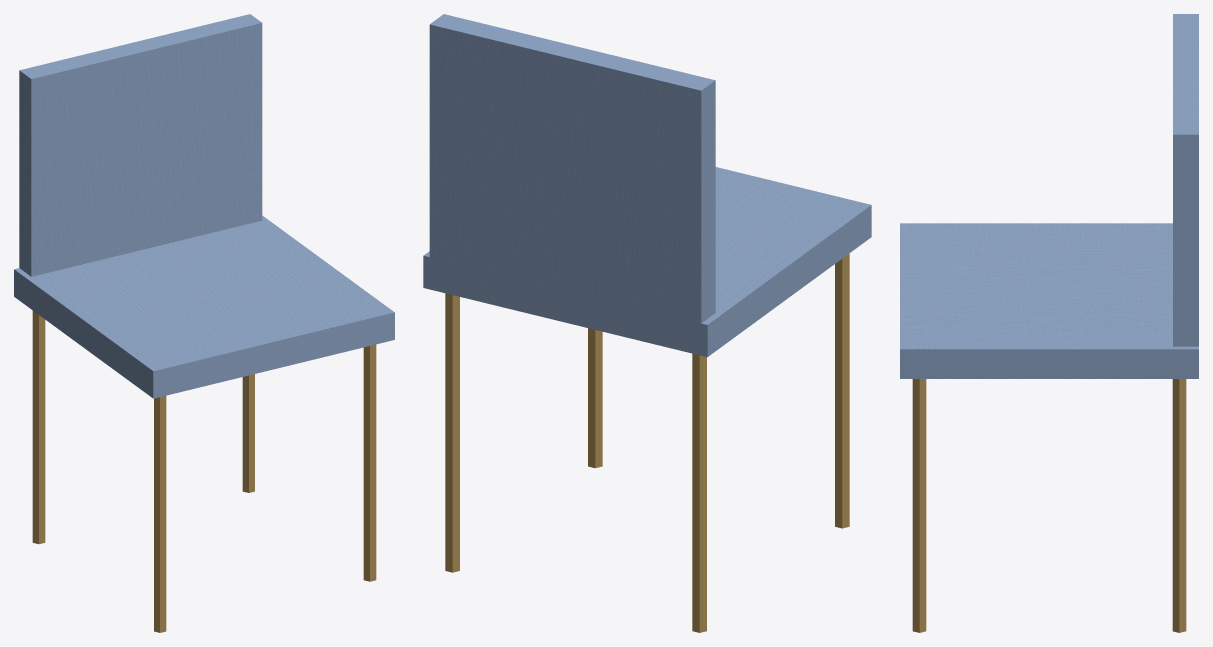
File: cadeira_visita.glb
The picture shows the model from 3 angles, left to right: view 1: azimuth 30°, elevation 25°; view 2: azimuth 150°, elevation 25°; view 3: azimuth 270°, elevation 25°; orthographic projection. The views are drawn at different scales.
Visible parts, largest first — view 1: cadeira_visita; view 2: cadeira_visita; view 3: cadeira_visita.
Part boxes in pixels (x1,y1,x2,y2): cadeira_visita: [14, 14, 394, 632]; cadeira_visita: [423, 14, 871, 632]; cadeira_visita: [900, 14, 1198, 632].
Bounding box in the file's own units: 0.46 × 0.85 × 0.46.
2 materials, 1 textured.
